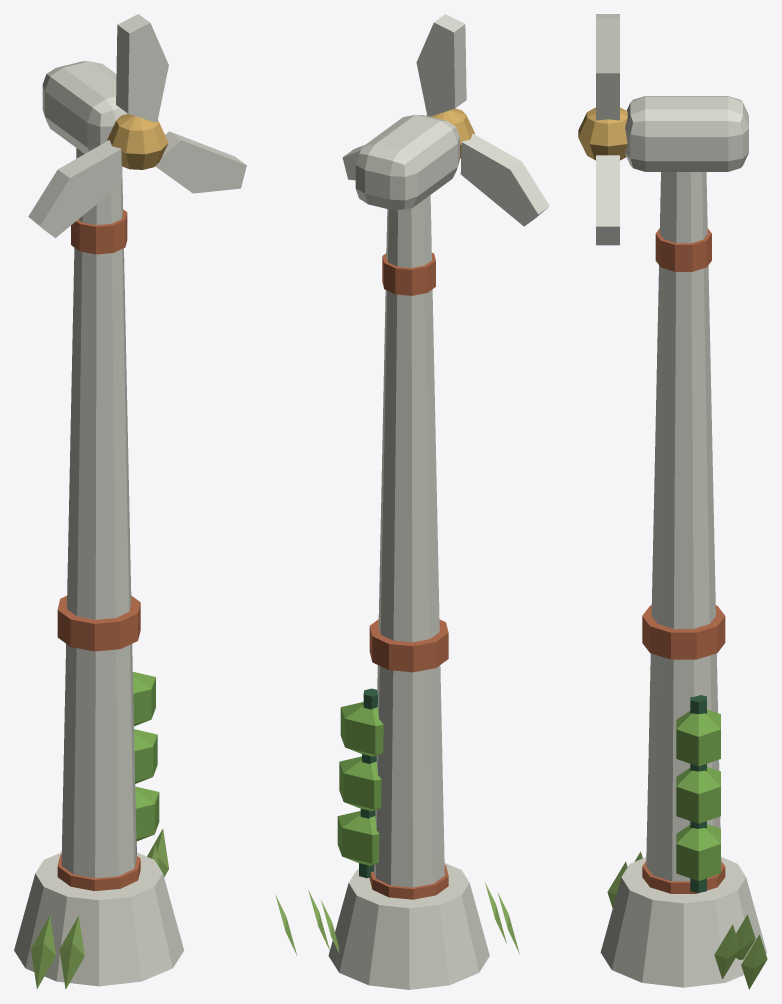
Rendered from wind_turbine.glb.
3 views of the same model, side by side, from view 1: azimuth 30°, elevation 25°; view 2: azimuth 150°, elevation 25°; view 3: azimuth 270°, elevation 25° (orthographic). The views are drawn at different scales.
Visible parts, largest first — view 1: Turbine_slim_tower, move_spin_rotor, Turbine_ceramic_foot, Turbine_nacelle, Turbine_copper_collar.001, Turbine_copper_collar.002, Turbine_copper_collar, decor_Vine_leaf, decor_Vine_leaf.001, decor_Vine_leaf.002, decor_Grass.002, decor_Grass; view 2: Turbine_slim_tower, Turbine_ceramic_foot, move_spin_rotor, Turbine_nacelle, Turbine_copper_collar.001, decor_Vine_leaf.002, decor_Vine_leaf, decor_Vine_leaf.001, Turbine_copper_collar.002, Turbine_copper_collar, decor_Vine_stem; view 3: Turbine_slim_tower, Turbine_ceramic_foot, Turbine_nacelle, move_spin_rotor, Turbine_copper_collar.001, decor_Vine_leaf, decor_Vine_leaf.001, decor_Vine_leaf.002, Turbine_copper_collar.002, Turbine_copper_collar, decor_Vine_stem, decor_Grass.004 (+2 smaller).
Part boxes in pixels (box(x1,y1,x2,y2)): Turbine_slim_tower: box(61, 148, 136, 878); move_spin_rotor: box(28, 14, 246, 237); Turbine_ceramic_foot: box(14, 852, 184, 986); Turbine_nacelle: box(42, 61, 127, 153); Turbine_copper_collar.001: box(57, 595, 140, 651); Turbine_copper_collar.002: box(71, 209, 127, 254); Turbine_copper_collar: box(57, 854, 140, 891); decor_Vine_leaf: box(135, 786, 159, 841); decor_Vine_leaf.001: box(134, 729, 157, 783); decor_Vine_leaf.002: box(133, 672, 155, 726); decor_Grass.002: box(59, 916, 84, 989); decor_Grass: box(31, 916, 56, 988); Turbine_slim_tower: box(374, 195, 444, 887); Turbine_ceramic_foot: box(328, 863, 489, 989); move_spin_rotor: box(342, 14, 549, 226); Turbine_nacelle: box(355, 114, 459, 210); Turbine_copper_collar.001: box(369, 619, 448, 672); decor_Vine_leaf.002: box(340, 702, 383, 756); decor_Vine_leaf: box(337, 811, 379, 865); decor_Vine_leaf.001: box(339, 756, 381, 811); Turbine_copper_collar.002: box(382, 252, 435, 295); Turbine_copper_collar: box(369, 865, 448, 899); decor_Vine_stem: box(359, 688, 377, 878); Turbine_slim_tower: box(646, 172, 721, 881); Turbine_ceramic_foot: box(600, 857, 766, 987); Turbine_nacelle: box(625, 96, 748, 171); move_spin_rotor: box(578, 14, 627, 245); Turbine_copper_collar.001: box(642, 605, 725, 659); decor_Vine_leaf: box(676, 824, 720, 880); decor_Vine_leaf.001: box(676, 767, 720, 823); decor_Vine_leaf.002: box(676, 709, 720, 766); Turbine_copper_collar.002: box(655, 228, 711, 271); Turbine_copper_collar: box(642, 861, 725, 893); decor_Vine_stem: box(690, 695, 706, 892); decor_Grass.004: box(741, 934, 767, 989).
Size of the model in its own units: 0.7848 by 3.48 by 0.6371.
